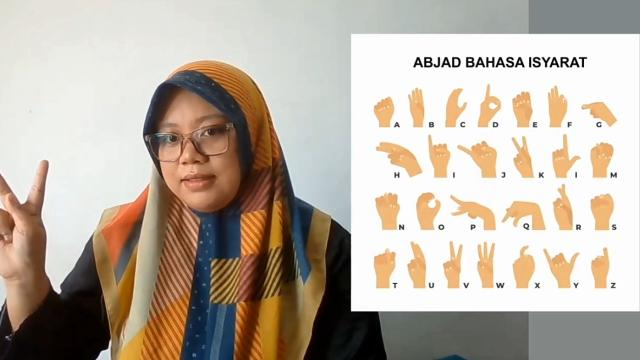K: (0, 158, 50, 286)
